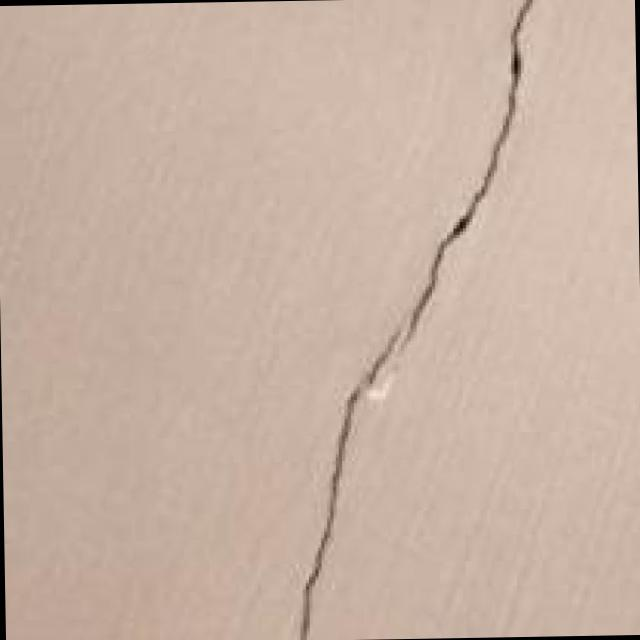crack: (286, 0, 556, 634)
